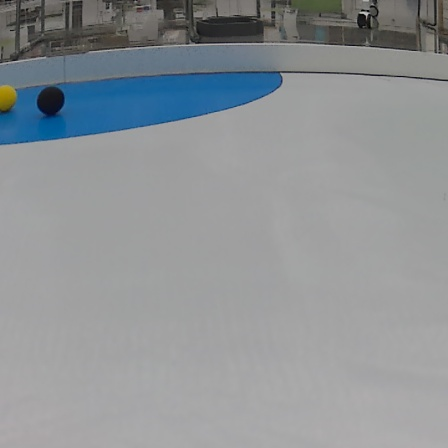black: (37, 87, 64, 116)
blue_base: (0, 72, 293, 145)
yellow: (0, 82, 20, 111)
